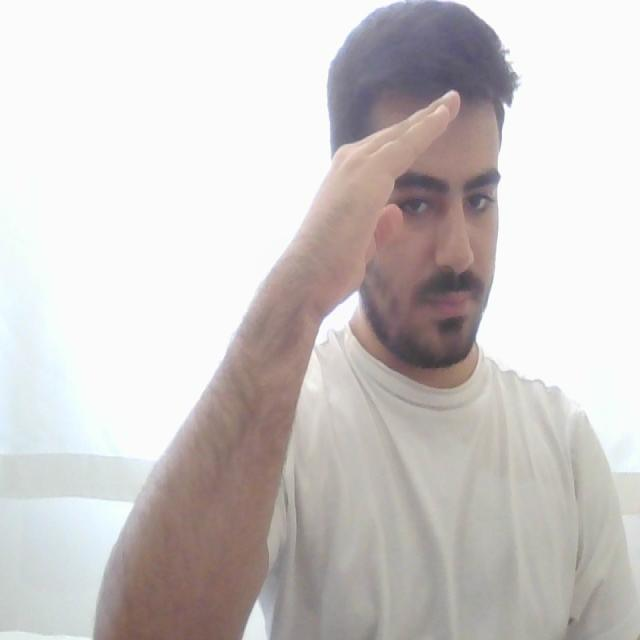Merhaba: (269, 56, 464, 347)
